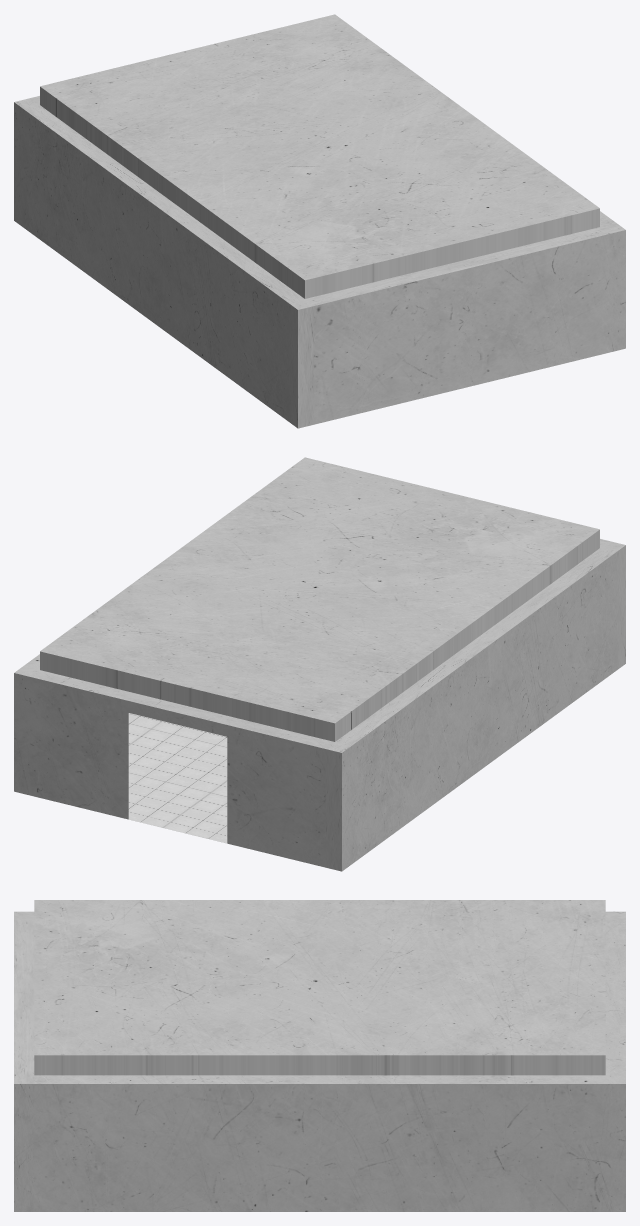
Rendered from 11gallery.glb.
The picture shows the model from 3 angles, top to bottom: view 1: azimuth 30°, elevation 25°; view 2: azimuth 150°, elevation 25°; view 3: azimuth 270°, elevation 25°; orthographic projection. The views are drawn at different scales.
Parts seen in each view (by area): view 1: Cube; view 2: Cube; view 3: Cube.
Boxes of the visible parts, x1,y1,x2,y2 form: Cube: (14, 14, 625, 428); Cube: (14, 457, 625, 871); Cube: (14, 900, 625, 1211).
Bounding box in the file's own units: 10 × 4 × 15.
2 materials, 2 textured.
